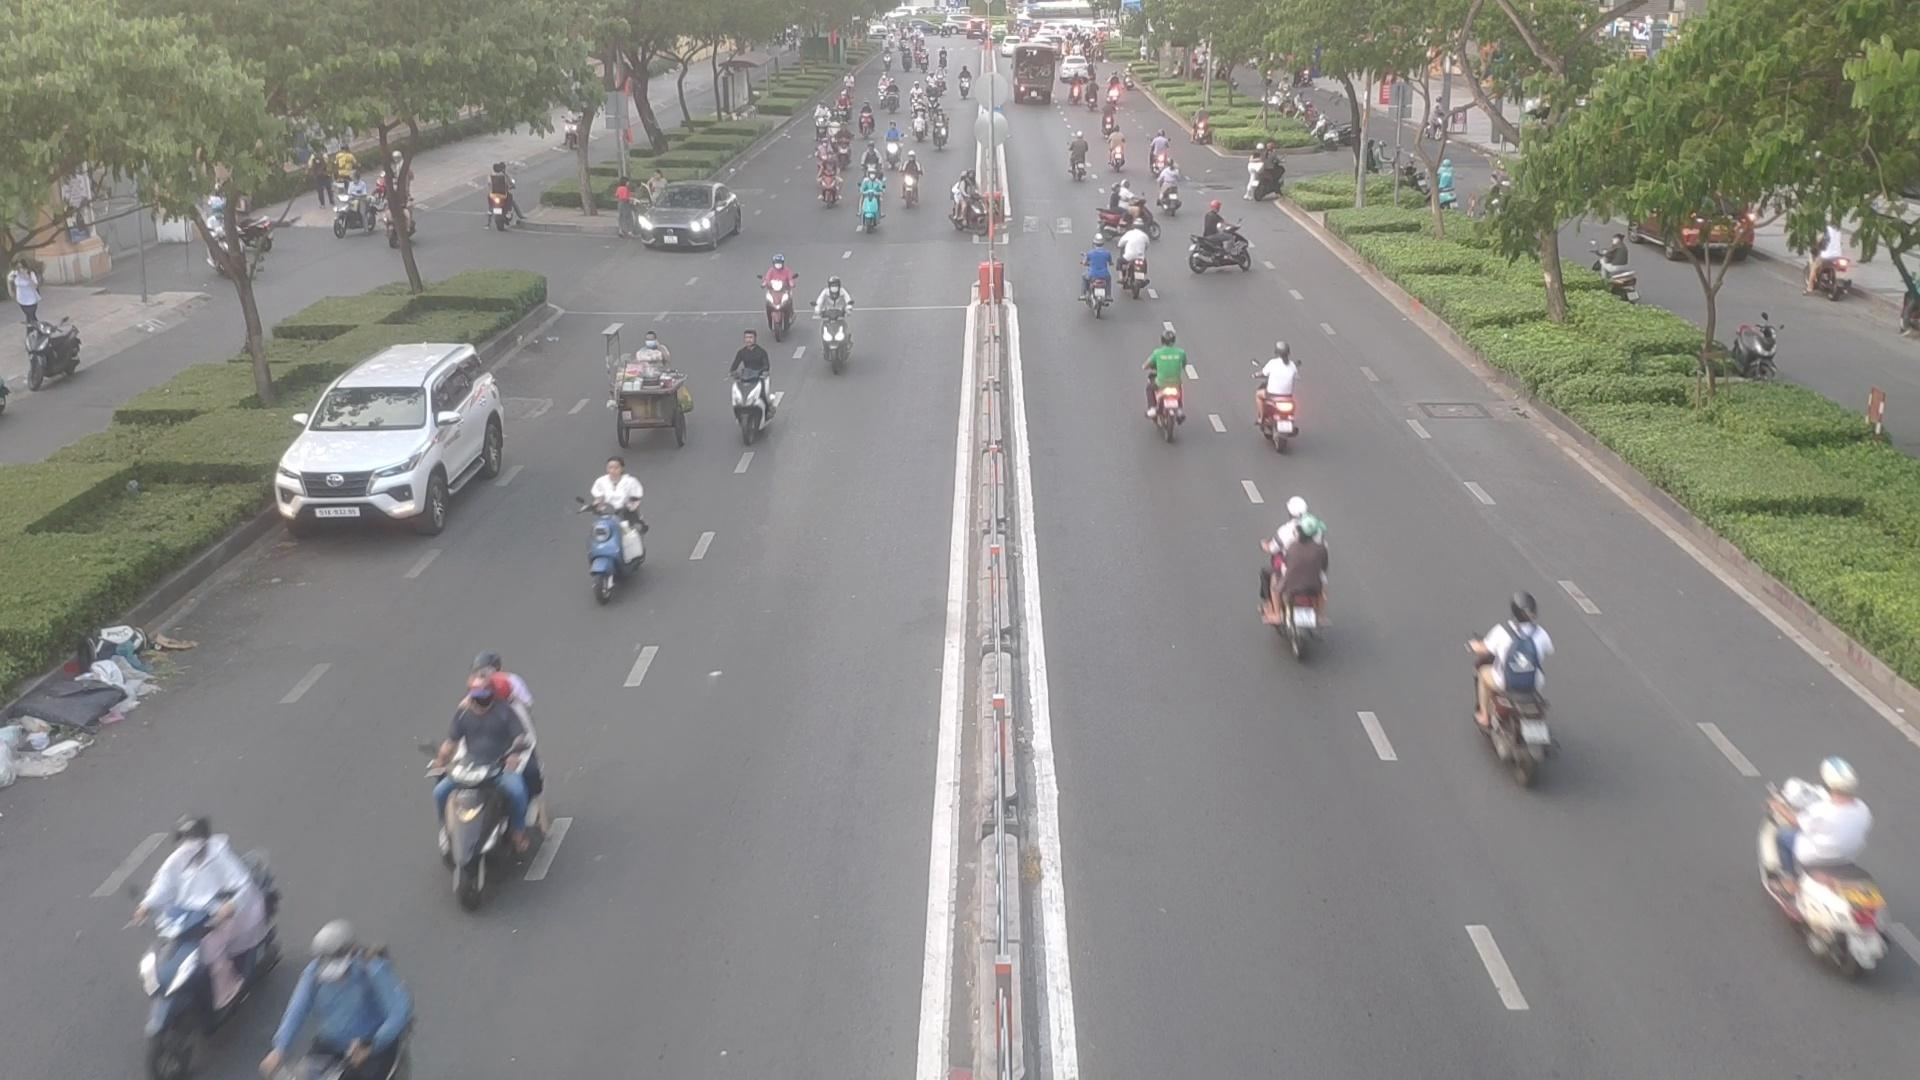car: (278, 339, 517, 527), (618, 189, 750, 255)
motorbike: (120, 814, 282, 1073), (418, 658, 559, 895), (1760, 756, 1888, 967), (255, 931, 415, 1080), (1466, 605, 1569, 783), (1247, 498, 1338, 647), (578, 463, 657, 593), (717, 332, 778, 443), (1138, 338, 1203, 434), (1251, 342, 1305, 442), (810, 280, 868, 372), (957, 175, 1015, 245), (1192, 218, 1259, 276), (1069, 244, 1116, 318), (753, 258, 796, 328), (1147, 171, 1180, 218), (1064, 135, 1095, 179)
